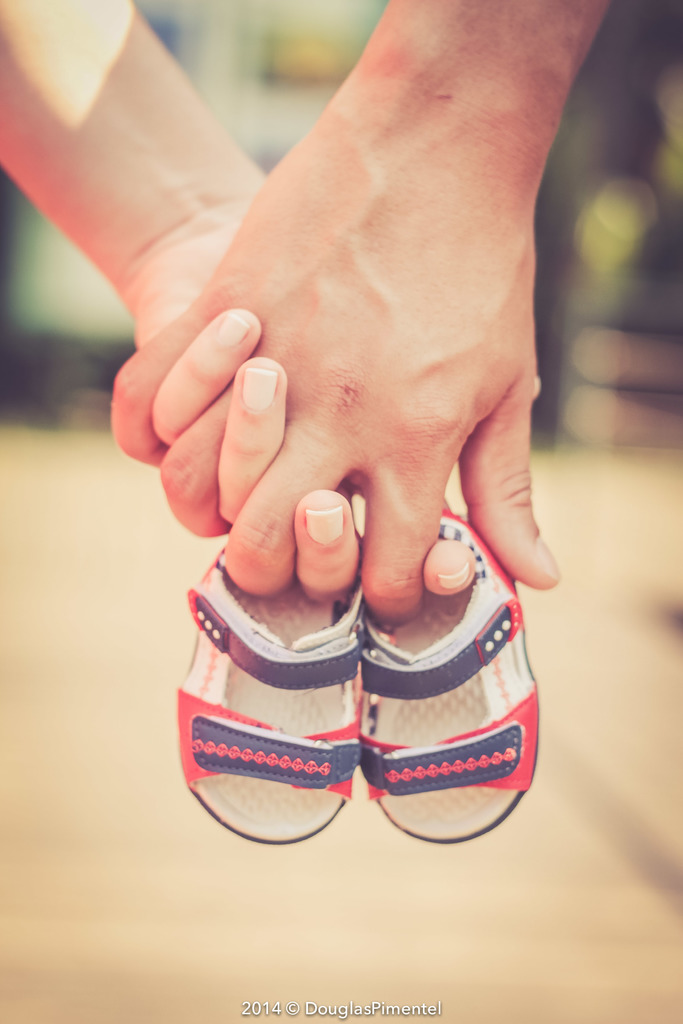Person: (110, 0, 611, 624), (0, 0, 474, 601)
